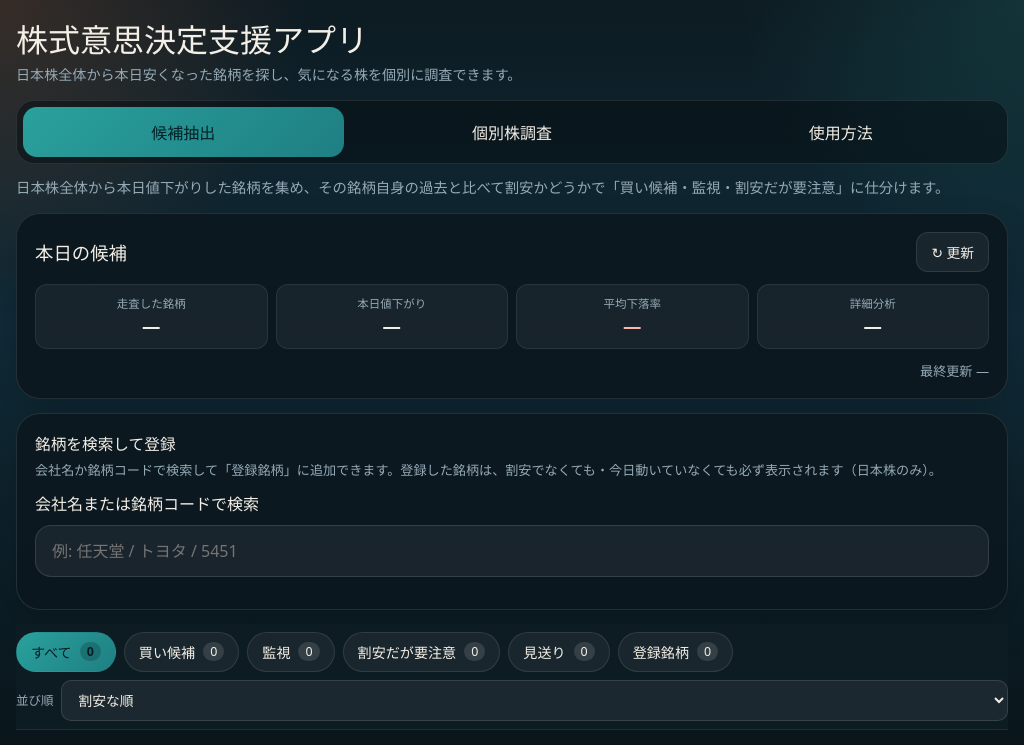
Test case: App › オフライン時のみ保存済み結果バナーを表示する
The image size is (1024, 745).
What coordinates should you click on to do the following:
click the tab "個別株調査"
I would click on:
 (512, 132)
Its box is [352,107,672,157].
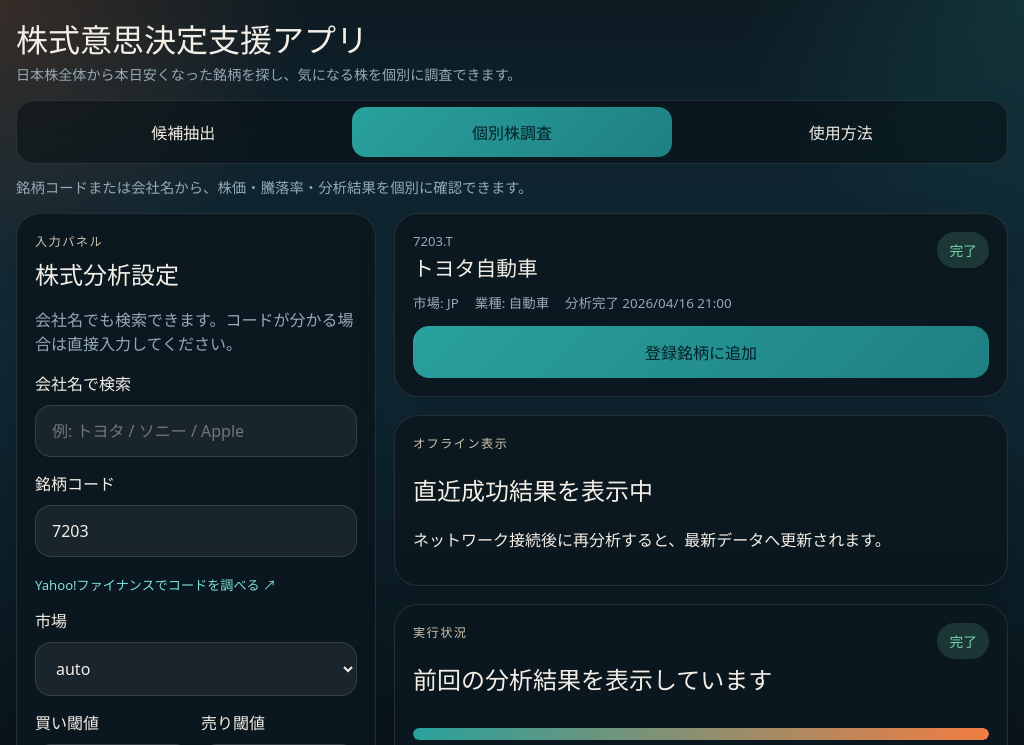
Expected: the heading "直近成功結果を表示中" is shown, [413,474,653,507]
